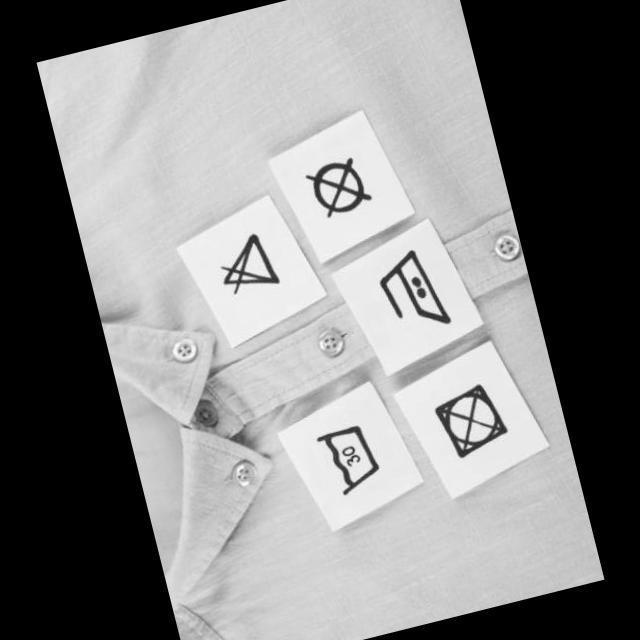30C: (310, 412, 390, 502)
DN_bleach: (209, 224, 283, 302)
DN_dry_clean: (300, 148, 378, 225)
DN_tumble_dry: (427, 374, 514, 465)
iron_medium: (370, 236, 456, 341)
